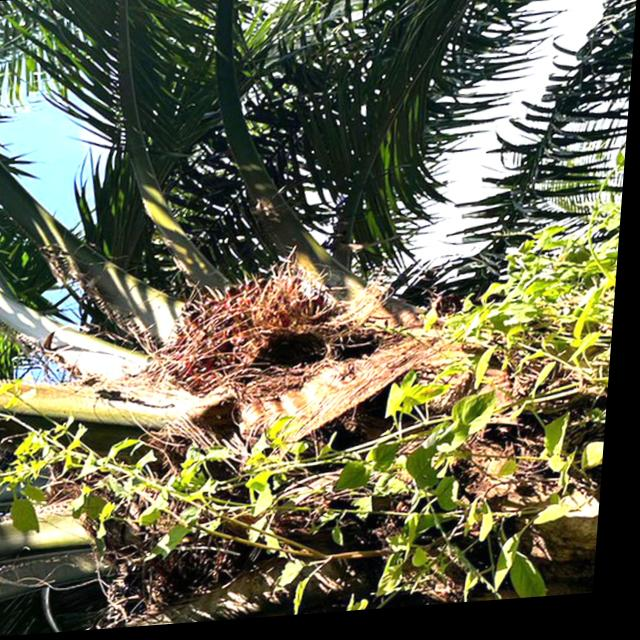almost: (153, 267, 327, 418)
